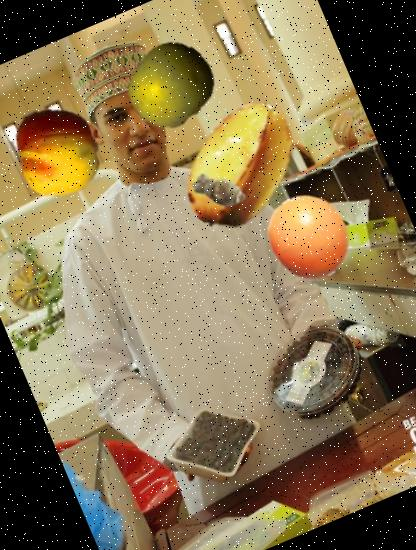Apple: (0, 93, 117, 210), (114, 29, 228, 142)
Carambula: (153, 78, 329, 255)
Ginger: (183, 155, 256, 228)
Grapefruit: (252, 180, 366, 294)
